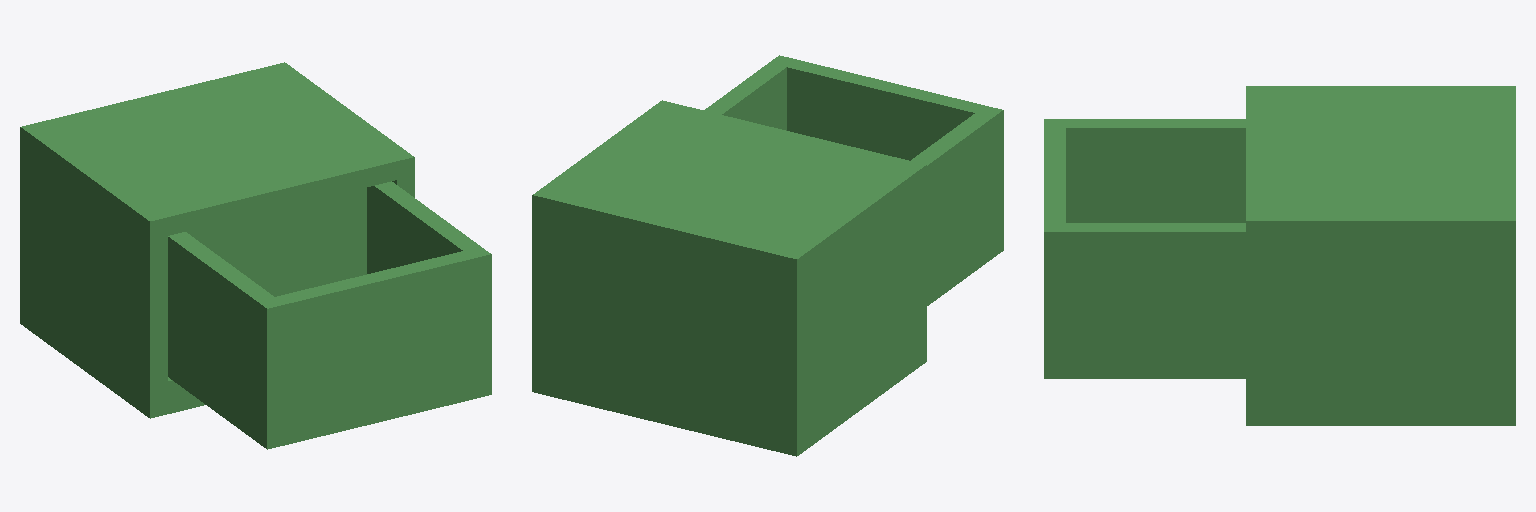
URDF robot description (drawer):
<?xml version="0.0" ?>
<robot name="drawer">
	<link name="link0_0">
		<inertial>
			<origin rpy="0.00000 -0.00000 0.00000" xyz="0.00000 0.00000 0.00000"/>
			<mass value="0.00000"/>
			<inertia ixx="0.00000" ixy="0" ixz="0" iyy="0.00000" iyz="0" izz="0.00000"/>
		</inertial>
	</link>
	<link name="drawercase_link">
		<inertial>
			<origin rpy="0.00000 -0.00000 0.00000" xyz="0.00000 0.00000 0.00000"/>
			<mass value="3.27514"/>
			<inertia ixx="0.01862" ixy="0" ixz="0" iyy="0.02290" iyz="0" izz="0.02612"/>
		</inertial>
		<visual>
			<origin rpy="0.00000 -0.00000 0.00000" xyz="-0.11000 0.00000 0.00000"/>
			<geometry>
				<box size="0.01600 0.20000 0.16800"/>
			</geometry>
			<material name="mat_0_0">
				<color rgba=".4 .65 .4 1" />
			</material>
		</visual>
		<visual>
			<origin rpy="0.00000 -0.00000 0.00000" xyz="0.11000 0.00000 0.00000"/>
			<geometry>
				<box size="0.01600 0.20000 0.16800"/>
			</geometry>
			<material name="mat_0_1">
				<color rgba=".4 .65 .4 1" />
			</material>
		</visual>
		<visual>
			<origin rpy="0.00000 -0.00000 0.00000" xyz="0.00000 0.09200 -0.00800"/>
			<geometry>
				<box size="0.20400 0.01600 0.15200"/>
			</geometry>
			<material name="mat_0_2">
				<color rgba=".4 .65 .4 1" />
			</material>
		</visual>
		<visual>
			<origin rpy="0.00000 -0.00000 0.00000" xyz="0.00000 -0.00800 -0.07000"/>
			<geometry>
				<box size="0.20400 0.18400 0.02800"/>
			</geometry>
			<material name="mat_0_3">
				<color rgba=".4 .65 .4 1" />
			</material>
		</visual>
		<visual>
			<origin rpy="0.00000 -0.00000 0.00000" xyz="0.00000 0.00000 0.07600"/>
			<geometry>
				<box size="0.20400 0.20000 0.01600"/>
			</geometry>
			<material name="mat_0_4">
				<color rgba=".4 .65 .4 1" />
			</material>
		</visual>
		<collision>
			<origin rpy="0.00000 -0.00000 0.00000" xyz="-0.11000 0.00000 0.00000"/>
			<geometry>
				<box size="0.01600 0.20000 0.16800"/>
			</geometry>
		</collision>
		<collision>
			<origin rpy="0.00000 -0.00000 0.00000" xyz="0.11000 0.00000 0.00000"/>
			<geometry>
				<box size="0.01600 0.20000 0.16800"/>
			</geometry>
		</collision>
		<collision>
			<origin rpy="0.00000 -0.00000 0.00000" xyz="0.00000 0.09200 -0.00800"/>
			<geometry>
				<box size="0.20400 0.01600 0.15200"/>
			</geometry>
		</collision>
		<collision>
			<origin rpy="0.00000 -0.00000 0.00000" xyz="0.00000 -0.00800 -0.07000"/>
			<geometry>
				<box size="0.20400 0.18400 0.02800"/>
			</geometry>
		</collision>
		<collision>
			<origin rpy="0.00000 -0.00000 0.00000" xyz="0.00000 0.00000 0.07600"/>
			<geometry>
				<box size="0.20400 0.20000 0.01600"/>
			</geometry>
		</collision>
	</link>
	<link name="link0_3">
		<inertial>
			<origin rpy="0.00000 -0.00000 0.00000" xyz="0.00000 0.00000 0.00000"/>
			<mass value="0.00000"/>
			<inertia ixx="0.00000" ixy="0" ixz="0" iyy="0.00000" iyz="0" izz="0.00000"/>
		</inertial>
	</link>
	<link name="drawer_link">
		<inertial>
			<origin rpy="0.00000 -0.00000 0.00000" xyz="0.00000 0.00000 0.00000"/>
			<mass value="1.79929"/>
			<inertia ixx="0.01146" ixy="0" ixz="0" iyy="0.00816" iyz="0" izz="0.01529"/>
		</inertial>
		<visual>
			<origin  rpy="0.00000 -0.00000 0.00000" xyz="0.00000 -0.08200 0.00800"/>
			<geometry>
				<box size="0.20000 0.01600 0.10400"/>
			</geometry>
			<material name="mat_0_74">
				<color rgba=".4 .65 .4 1" />
			</material>
		</visual>
		<collision>
			<origin rpy="0.00000 -0.00000 0.00000" xyz="0.00000 -0.08200 0.00800"/>
			<geometry>
				<box size="0.20000 0.01600 0.10400"/>
			</geometry>
		</collision>
		<visual>
			<origin  rpy="0.00000 -0.00000 0.00000" xyz="0.00000 0.08200 0.00800"/>
			<geometry>
				<box size="0.20000 0.01600 0.10400"/>
			</geometry>
			<material name="mat_0_84">
				<color rgba=".4 .65 .4 1" />
			</material>
		</visual>
		<collision>
			<origin rpy="0.00000 -0.00000 0.00000" xyz="0.00000 0.08200 0.00800"/>
			<geometry>
				<box size="0.20000 0.01600 0.10400"/>
			</geometry>
		</collision>
		<visual>
			<origin  rpy="0.00000 -0.00000 0.00000" xyz="-0.09200 0.00000 0.00800"/>
			<geometry>
				<box size="0.01600 0.14800 0.10400"/>
			</geometry>
			<material name="mat_0_75">
				<color rgba=".4 .65 .4 1" />
			</material>
		</visual>
		<collision>
			<origin rpy="0.00000 -0.00000 0.00000" xyz="-0.09200 0.00000 0.00800"/>
			<geometry>
				<box size="0.01600 0.14800 0.10400"/>
			</geometry>
		</collision>
		<visual>
			<origin rpy="0.00000 -0.00000 0.00000" xyz="0.09200 0.00000 0.00800"/>
			<geometry>
				<box size="0.01600 0.14800 0.10400"/>
			</geometry>
			<material name="mat_0_85">
				<color rgba=".4 .65 .4 1" />
			</material>
		</visual>
		<collision>
			<origin rpy="0.00000 -0.00000 0.00000" xyz="0.09200 0.00000 0.00800"/>
			<geometry>
				<box size="0.01600 0.14800 0.10400"/>
			</geometry>
		</collision>
		<visual>
			<origin  rpy="0.00000 -0.00000 0.00000" xyz="0.00000 0.00000 -0.05200"/>
			<geometry>
				<box size="0.20000 0.18000 0.01600"/>
			</geometry>
			<material name="mat_0_75">
				<color rgba=".4 .65 .4 1" />
			</material>
		</visual>
		<collision>
			<origin rpy="0.00000 -0.00000 0.00000" xyz="0.00000 0.00000 -0.05200"/>
			<geometry>
				<box size="0.20000 0.18000 0.01600"/>
			</geometry>
		</collision>
	</link>

    <link name='handle_link'>
        <inertial>
            <origin rpy="0.00000 -0.00000 0.00000" xyz="0.00000 0.00000 0.00000"/>
            <mass value="1.79929"/>
            <inertia ixx="0.01146" ixy="0" ixz="0" iyy="0.00816" iyz="0" izz="0.01529"/>
        </inertial>
        <visual>
			<origin  rpy="1.57 -0.00000 0.00000" xyz="-0.05000 -0.12000 0.00000"/>
			<geometry>
				<capsule length="0.06000" radius="0.00900"/>
			</geometry>
			<material name="mat_0_76">
				<color rgba=".4 .65 .4 1" />
			</material>
		</visual>
		<collision>
			<origin rpy="1.57 0.0 0.00000" xyz="-0.05000 -0.12000 0.00000"/>
			<geometry>
				<capsule length="0.06000" radius="0.00900"/>
			</geometry>
		</collision>
		<visual>
			<origin  rpy="0.00000 1.57 0.00000" xyz="0.00000 -0.15000 0.00000"/>
			<geometry>
				<capsule length="0.10000" radius="0.00900"/>
			</geometry>
			<material name="mat_0_77">
				<color rgba=".4 .65 .4 1" />
			</material>
		</visual>
		<collision>
			<origin rpy="0.00000 1.57 0.00000" xyz="0.00000 -0.15000 0.00000"/>
			<geometry>
				<capsule length="0.10000" radius="0.00900"/>
			</geometry>
		</collision>
		<visual>
			<origin  rpy="1.57 -0.00000 0.00000" xyz="0.05000 -0.12000 0.00000"/>
			<geometry>
				<capsule length="0.06000" radius="0.00900"/>
			</geometry>
			<material name="mat_0_97">
				<color rgba=".75 .75 .75 1" />
			</material>
		</visual>
		<collision>
			<origin rpy="1.57 -0.00000 0.00000" xyz="0.05000 -0.12000 0.00000"/>
			<geometry>
				<capsule length="0.06000" radius="0.00900"/>
			</geometry>
		</collision>
    </link>

	<joint name="jointfix_2_0" type="fixed">
		<parent link="link0_0"/>
		<child link="drawercase_link"/>
		<dynamics damping="1.0" friction="0.0001"/>
		<origin rpy="0.00000 -0.00000 0.00000" xyz="0.00000 0.00000 0.08400"/>
		<axis xyz="0.00000 0.00000 0.00000"/>
	</joint>
	<joint name="goal_slidey" type="prismatic">
		<parent link="drawercase_link"/>
		<child link="link0_3"/>
		<limit effort="0.00000" lower="0.16000" upper="0.00000" velocity="0.00000"/>
		<dynamics damping="1.0" friction="0.0001"/>
		<origin rpy="0.00000 -0.00000 0.00000" xyz="0.00000 -0.16000 0.00600"/>
		<axis xyz="0.00000 1.00000 0.00000"/>
	</joint>
	<joint name="jointfix_1_3" type="fixed">
		<parent link="link0_3"/>
		<child link="drawer_link"/>
		<dynamics damping="1.0" friction="0.0001"/>
		<origin rpy="0.00000 -0.00000 0.00000" xyz="0.00000 0.00000 0.00000"/>
		<axis xyz="0.00000 0.00000 0.00000"/>
	</joint>
	<joint name="jointfix_1_5" type="fixed">
		<parent link="drawer_link"/>
		<child link="handle_link"/>
		<dynamics damping="1.0" friction="0.0001"/>
		<origin rpy="0.00000 -0.00000 0.00000" xyz="0.00000 0.00000 0.00000"/>
		<axis xyz="0.00000 0.00000 0.00000"/>
	</joint>
</robot>

--- Render facts (derived) ---
The picture shows the robot from 3 angles, left to right: view 1: azimuth 30°, elevation 25°; view 2: azimuth 150°, elevation 25°; view 3: azimuth 270°, elevation 25°; orthographic projection.
Model drawer with 5 links and 4 joints (1 prismatic, 3 fixed), rooted at link0_0, posed all joints at 0.
Visible links, largest first — view 1: drawercase_link, drawer_link; view 2: drawercase_link, drawer_link; view 3: drawercase_link, drawer_link.
Link boxes in pixels (x1,y1,x2,y2): drawercase_link: (20, 62, 414, 418); drawer_link: (168, 181, 491, 449); drawercase_link: (532, 100, 926, 456); drawer_link: (704, 55, 1003, 305); drawercase_link: (1246, 86, 1515, 425); drawer_link: (1044, 119, 1245, 378).
Size in the robot's own frame: 0.236 by 0.35 by 0.168 metres.
Geometry: primitives only (box / cylinder / sphere), no mesh files.